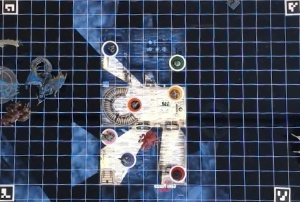blue: (101, 40, 120, 56)
green: (168, 55, 188, 70)
orange: (127, 96, 144, 112)
pink: (98, 126, 120, 146)
red: (169, 163, 187, 181)
violet: (118, 150, 137, 168)
yellow: (168, 84, 183, 99)
